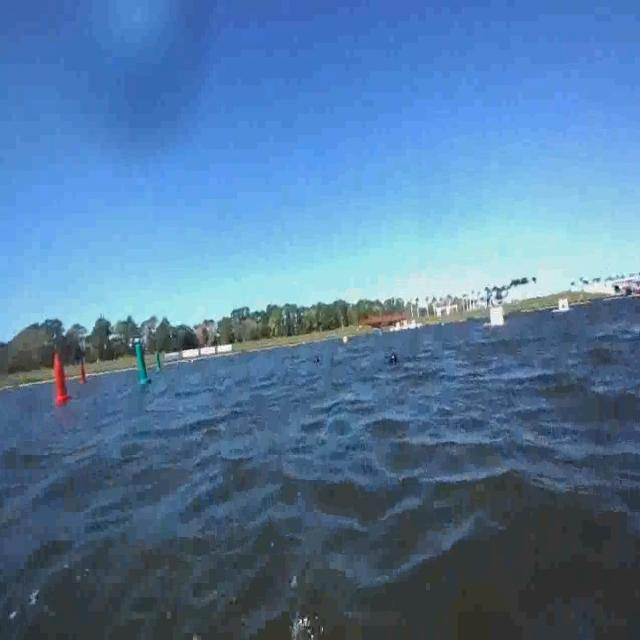black-buoy: (391, 354, 399, 365), (314, 356, 321, 364)
green-column-buoy: (135, 343, 152, 388), (154, 351, 162, 372)
red-column-buoy: (51, 349, 72, 404), (78, 359, 87, 385)
yellow-buoy: (344, 336, 350, 346)
